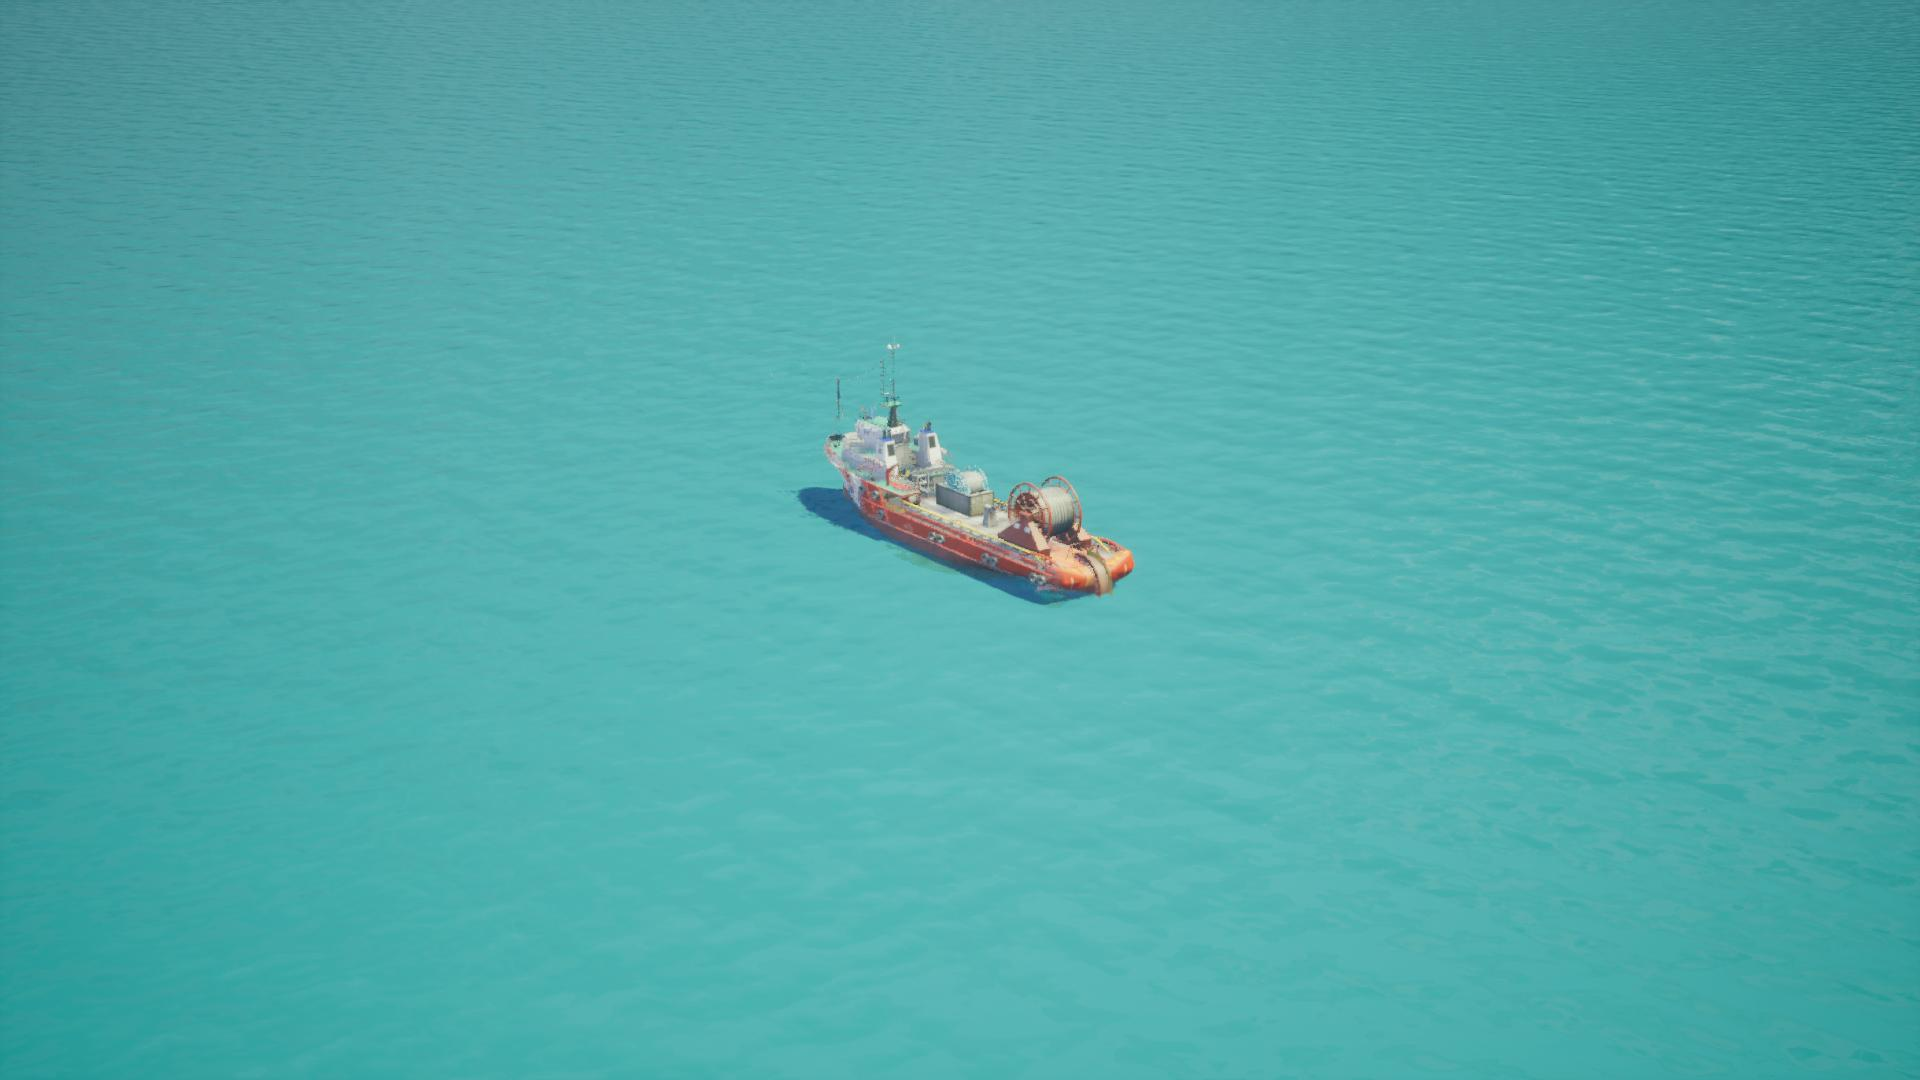Tug Boat: (750, 266, 1150, 608)
